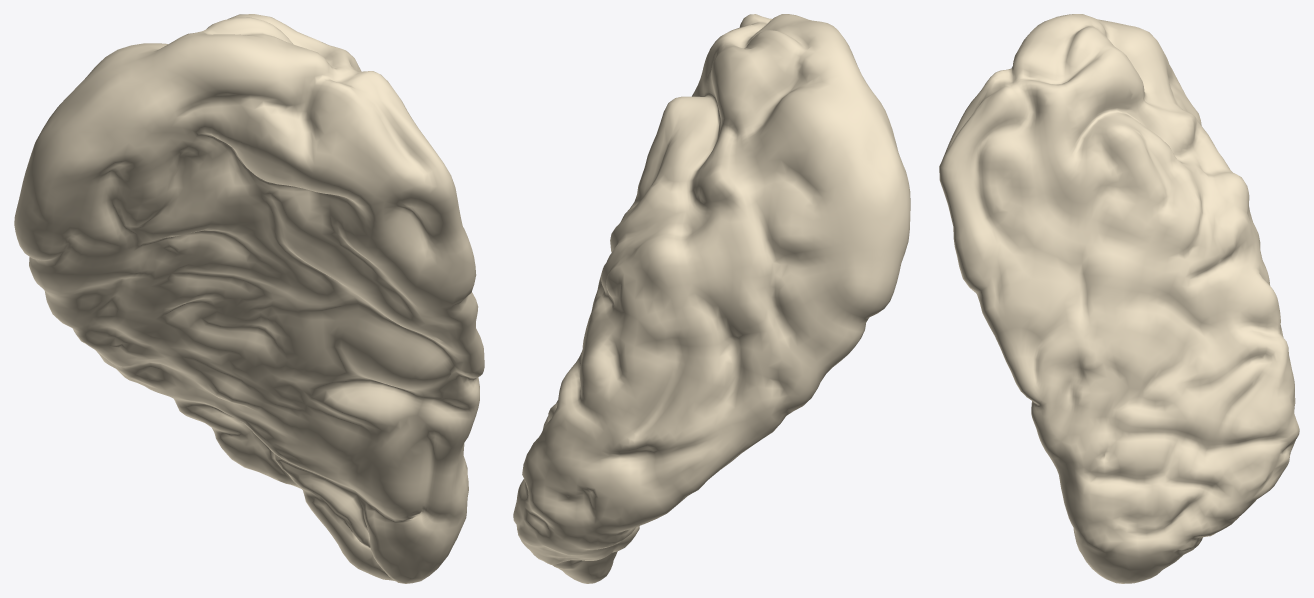
File: palatine-tonsil-male-left.glb
3 views of the same model, side by side, from view 1: azimuth 30°, elevation 25°; view 2: azimuth 150°, elevation 25°; view 3: azimuth 270°, elevation 25° (orthographic). The views are drawn at different scales.
Parts seen in each view (by area): view 1: VH_M_palatine_tonsil_L; view 2: VH_M_palatine_tonsil_L; view 3: VH_M_palatine_tonsil_L.
Part boxes in pixels (left/top/right/bottom): VH_M_palatine_tonsil_L: left=14, top=14, right=484, bottom=583; VH_M_palatine_tonsil_L: left=513, top=14, right=910, bottom=583; VH_M_palatine_tonsil_L: left=939, top=14, right=1299, bottom=583.
Bounding box in the file's own units: 0.0165 × 0.0242 × 0.0164.
